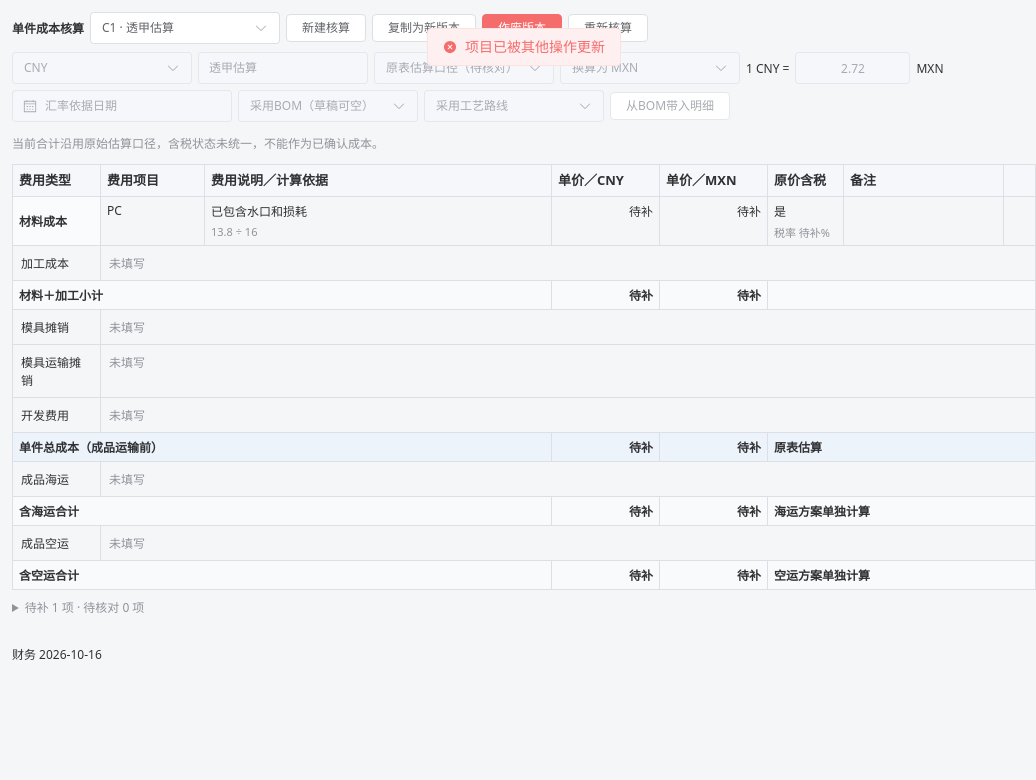
Test case: single-cost spreadsheet actions › shows confirmed versions read-only and copies them to a new editable draft
Click the button "复制为新版本".
click(424, 28)  # box [372,14,476,42]
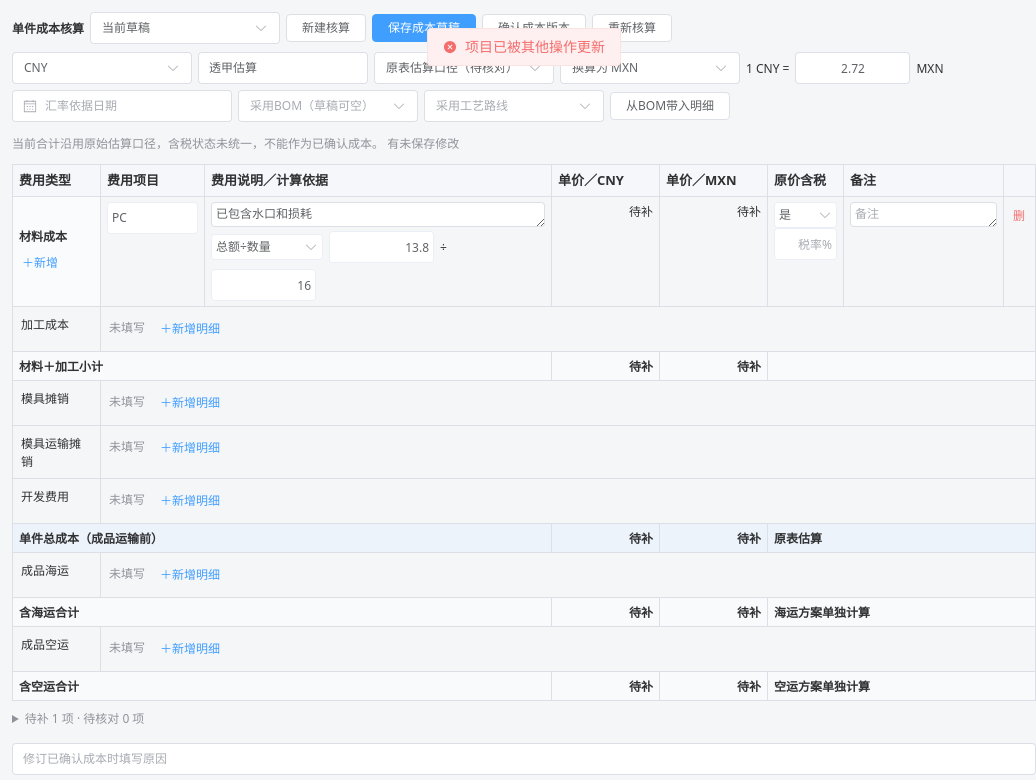
Expected: the field named "费用项目" is shown, [112,203,193,233]
Expected: the field named "成本修订原因" is empty, [23,744,1025,774]
